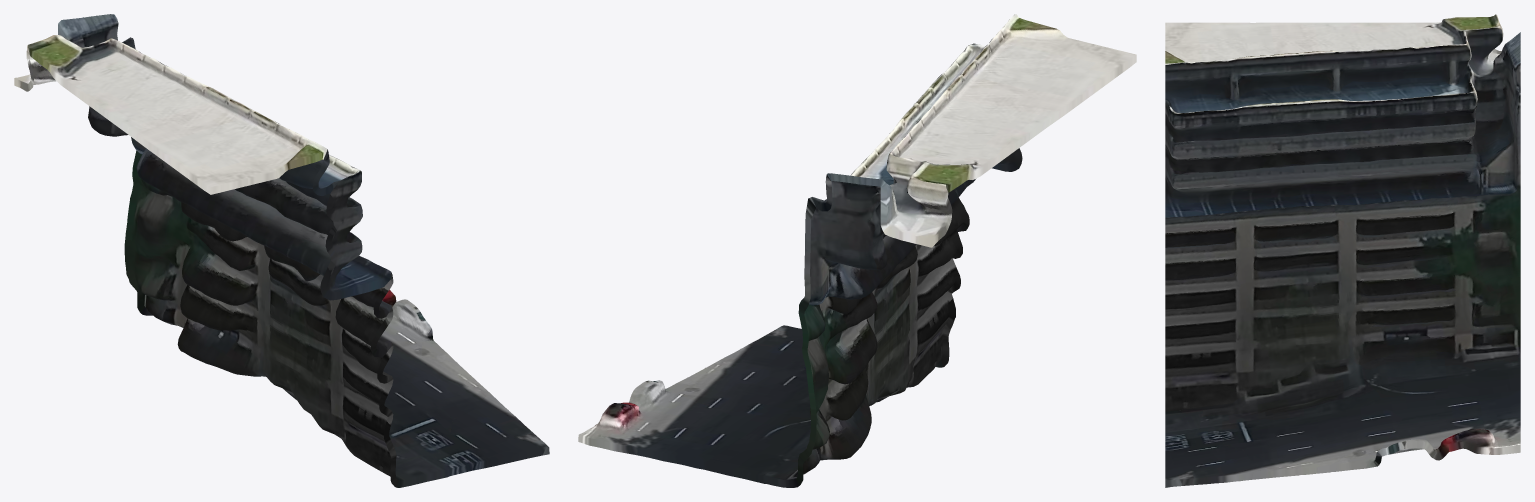
File: z20-167753-405239-h0-yup-uvflip-v3-world.glb
The picture shows the model from 3 angles, left to right: view 1: azimuth 30°, elevation 25°; view 2: azimuth 150°, elevation 25°; view 3: azimuth 270°, elevation 25°; orthographic projection. The views are drawn at different scales.
Size of the model in its own units: 30.2 by 30.8 by 30.32.
Materials: 1 (1 with a texture image).
